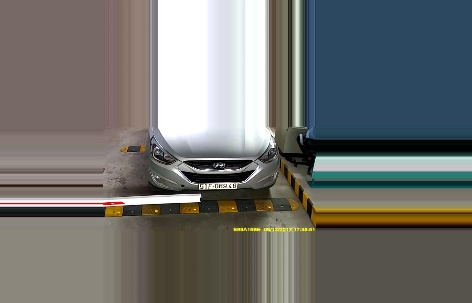plate: (198, 181, 242, 192)
